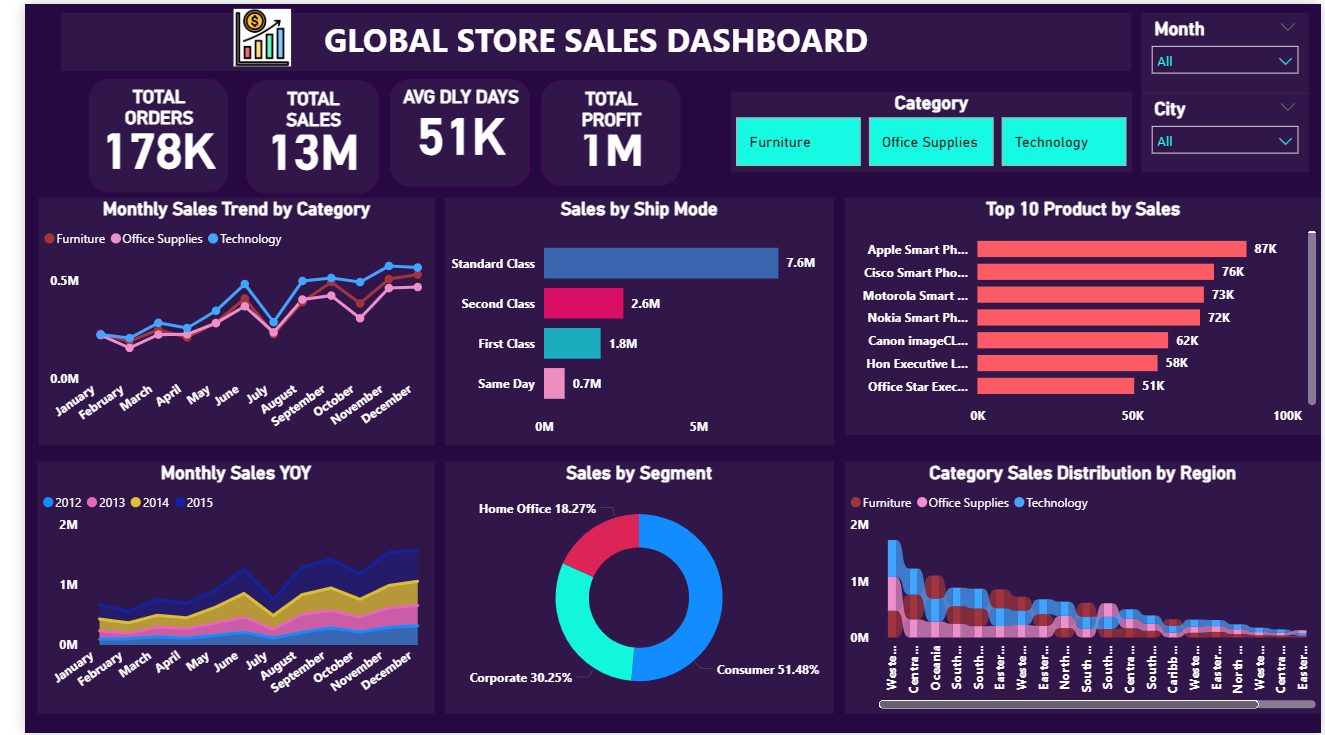

The page's visual inventory and layout, read from the dashboard file:
{"tool":"powerbi","page":{"name":"Sales","canvas":[1280,720],"ordinal":0},"visuals":[{"type":"textbox","box":[36.2,8.4,1056.8,57.9],"z":0},{"type":"clusteredBarChart","title":" Sales by Ship Mode","fields":{"Y":["Sum(Orders.Sales)"],"Category":["Orders.Ship Mode"]},"box":[415,191.8,383.6,244.9],"z":1000},{"type":"lineChart","title":"Monthly Sales Trend  by Category","fields":{"Category":["Orders.Order Date.Variation.Date Hierarchy.Month"],"Y":["Sum(Orders.Sales)"],"Series":["Orders.Category"]},"box":[13.3,191.8,390.9,244.9],"z":2000},{"type":"clusteredBarChart","title":"Top 10 Product by Sales","fields":{"Category":["Orders.Product Name"],"Y":["Sum(Orders.Sales)"]},"box":[809.5,191.8,470.5,234],"z":3000},{"type":"stackedAreaChart","title":"Monthly Sales YOY","fields":{"Y":["Sum(Orders.Sales)"],"Series":["Orders.Order Date.Variation.Date Hierarchy.Year"],"Category":["Orders.Order Date.Variation.Date Hierarchy.Month"]},"box":[12.1,452.4,392.1,248.5],"z":4000},{"type":"donutChart","title":" Sales by Segment","fields":{"Y":["Sum(Orders.Sales)"],"Category":["Orders.Segment"]},"box":[415,452.4,383.6,248.5],"z":5000},{"type":"card","title":"TOTAL ORDERS","fields":{"Values":["Sum(Orders.Quantity)"]},"box":[62.7,73.6,137.5,112.2],"z":6000},{"type":"card","title":"TOTAL SALES","fields":{"Values":["Sum(Orders.Sales)"]},"box":[218.4,74.8,131.5,112.2],"z":7000},{"type":"slicer","fields":{"Values":["Orders.Order Date.Variation.Date Hierarchy.Month"]},"box":[1102.7,8.4,165.3,79.6],"z":8000},{"type":"advancedSlicerVisual","fields":{"Values":["Orders.Category"]},"box":[697.3,86.9,395.7,79.6],"z":9000},{"type":"image","box":[185.8,0,98.9,66.4],"z":10000},{"type":"card","title":"AVG DLY DAYS","fields":{"Values":["CountNonNull(Orders.AVG Delivery Days)"]},"box":[360.7,73.6,138.7,106.2],"z":11000},{"type":"slicer","fields":{"Values":["Orders.City"]},"box":[1102.7,88.1,165.3,78.4],"z":12000},{"type":"ribbonChart","title":"Category Sales Distribution by Region","fields":{"Category":["Orders.Region"],"Series":["Orders.Category"],"Y":["Sum(Orders.Sales)"]},"box":[810,452,470,249],"z":13000},{"type":"card","title":"TOTAL PROFIT","fields":{"Values":["Sum(Orders.Profit)"]},"box":[510.3,74.8,137.5,103.8],"z":14000}]}

Visuals, with their boxes in screenshot pixels (x1, y1, x2, y2), scaled from the page's 1280x720 canvas onto the 1325x735 screenshot:
textbox: 37, 9, 1131, 68
" Sales by Ship Mode" clusteredBarChart: 430, 196, 827, 446
"Monthly Sales Trend  by Category" lineChart: 14, 196, 418, 446
"Top 10 Product by Sales" clusteredBarChart: 838, 196, 1324, 435
"Monthly Sales YOY" stackedAreaChart: 13, 462, 418, 716
" Sales by Segment" donutChart: 430, 462, 827, 716
"TOTAL ORDERS" card: 65, 75, 207, 190
"TOTAL SALES" card: 226, 76, 362, 191
slicer - Orders.Order Date.Variation.Date Hierarchy.Month: 1141, 9, 1313, 90
advancedSlicerVisual - Orders.Category: 722, 89, 1131, 170
image: 192, 0, 295, 68
"AVG DLY DAYS" card: 373, 75, 517, 184
slicer - Orders.City: 1141, 90, 1313, 170
"Category Sales Distribution by Region" ribbonChart: 838, 461, 1324, 716
"TOTAL PROFIT" card: 528, 76, 671, 182
